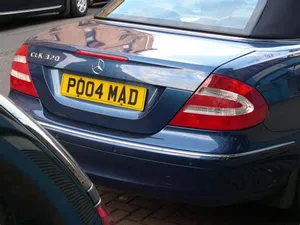number_plate: (54, 70, 154, 115)
